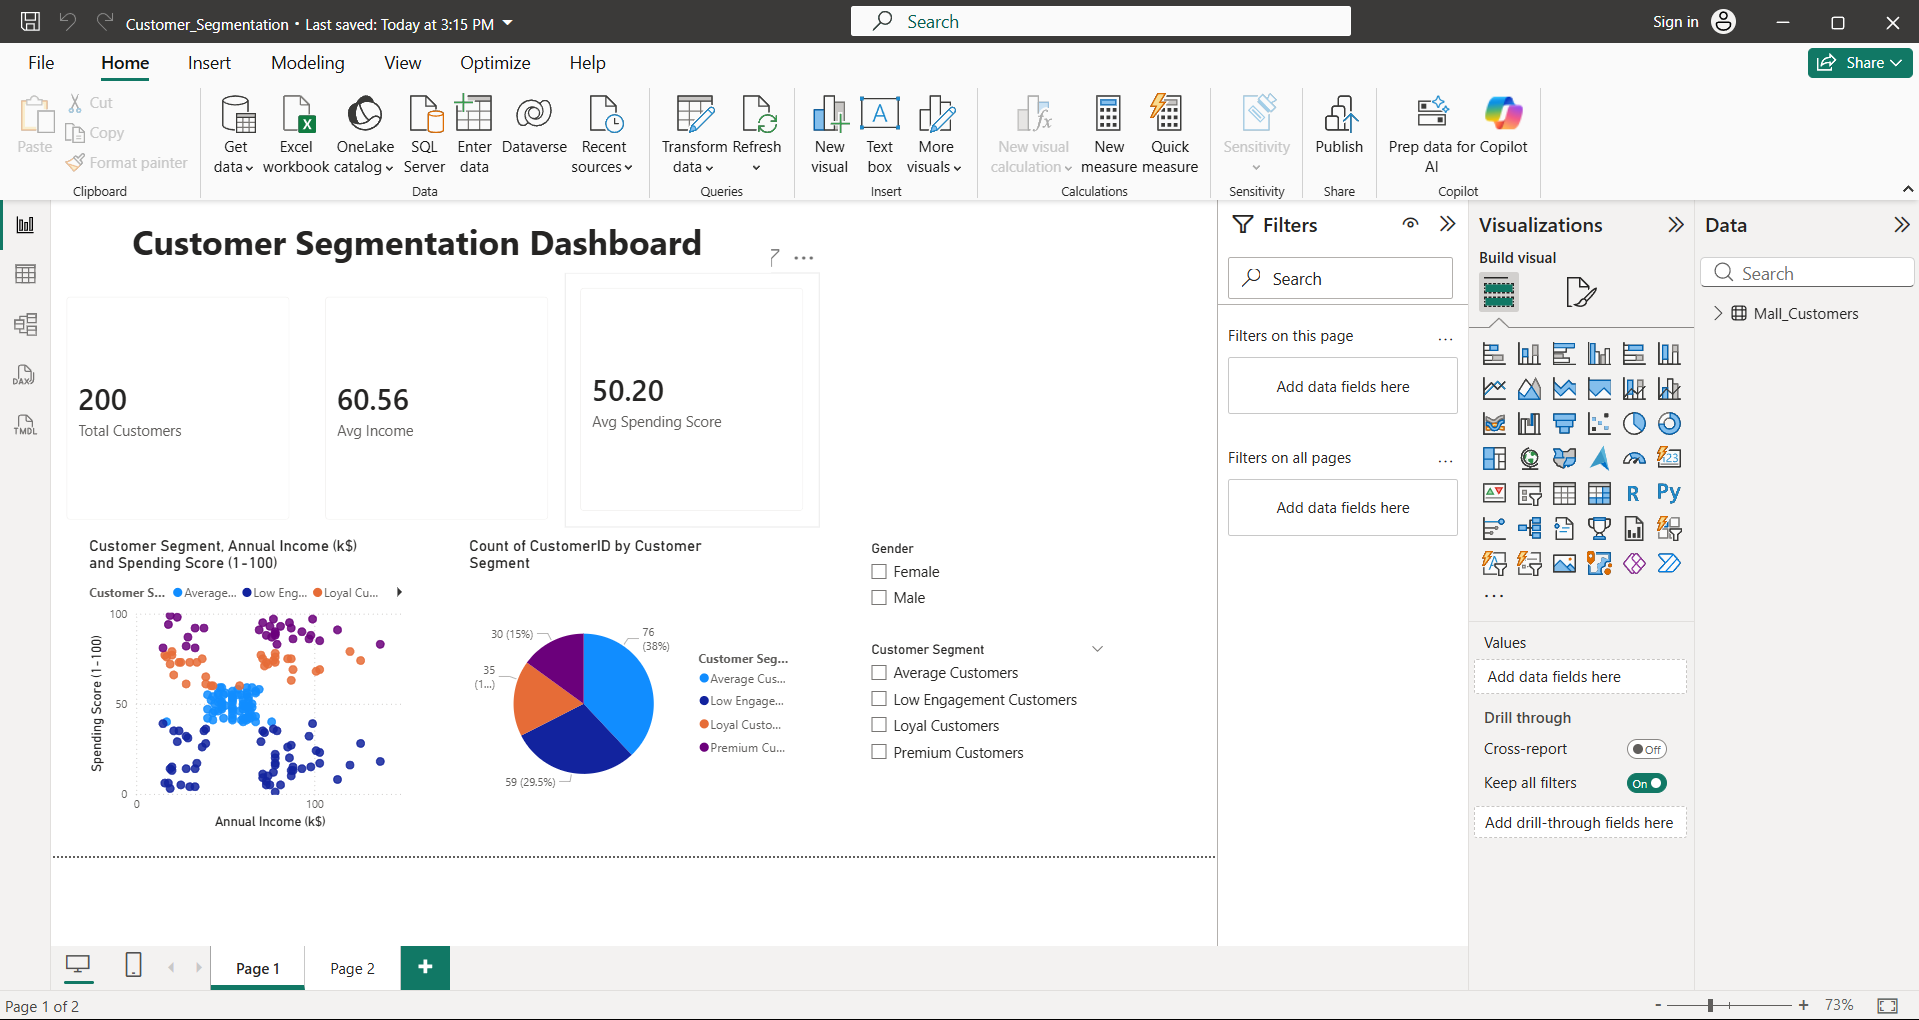

What the dashboard file says about the page in this screenshot:
{"tool":"powerbi","page":{"name":"Page 1","canvas":[1280,720],"ordinal":0},"visuals":[{"type":"cardVisual","fields":{"Data":["Count(Mall_Customers.CustomerID)"]},"box":[0,89.2,279.9,279.9],"z":0},{"type":"cardVisual","fields":{"Data":["Avg(Mall_Customers.Annual Income (k$))"]},"box":[284,89.2,279.9,279.9],"z":1000},{"type":"cardVisual","fields":{"Data":["Avg(Mall_Customers.Spending Score (1-100))"]},"box":[564,79.6,279.9,279.9],"z":2000},{"type":"scatterChart","fields":{"X":["Mall_Customers.Annual Income (k$)"],"Y":["Mall_Customers.Spending Score (1-100)"],"Series":["Mall_Customers.Customer Segment"]},"box":[37,369.1,365,326.6],"z":3000},{"type":"pieChart","fields":{"Category":["Mall_Customers.Customer Segment"],"Y":["CountNonNull(Mall_Customers.CustomerID)"]},"box":[454.2,369.1,370.5,326.6],"z":4000},{"type":"slicer","fields":{"Values":["Mall_Customers.Gender"]},"box":[887.8,369.1,279.9,93.3],"z":4001},{"type":"slicer","fields":{"Values":["Mall_Customers.Customer Segment"]},"box":[887.8,480.3,279.9,148.2],"z":4002},{"type":"textbox","box":[13.7,15.1,776.7,64.5],"z":4003}]}

Visuals, with their boxes on the page's 1280x720 design canvas (x1, y1, x2, y2). These are canvas units, not pixel positions in the 1919x1020 screenshot, which may show the page scaled, cropped or inside an application window:
cardVisual - Count(Mall_Customers.CustomerID): l=0, t=89, r=280, b=369
cardVisual - Avg(Mall_Customers.Annual Income (k$)): l=284, t=89, r=564, b=369
cardVisual - Avg(Mall_Customers.Spending Score (1-100)): l=564, t=80, r=844, b=360
scatterChart - Mall_Customers.Annual Income (k$) x Mall_Customers.Spending Score (1-100): l=37, t=369, r=402, b=696
pieChart - Mall_Customers.Customer Segment x CountNonNull(Mall_Customers.CustomerID): l=454, t=369, r=825, b=696
slicer - Mall_Customers.Gender: l=888, t=369, r=1168, b=462
slicer - Mall_Customers.Customer Segment: l=888, t=480, r=1168, b=628
textbox: l=14, t=15, r=790, b=80
